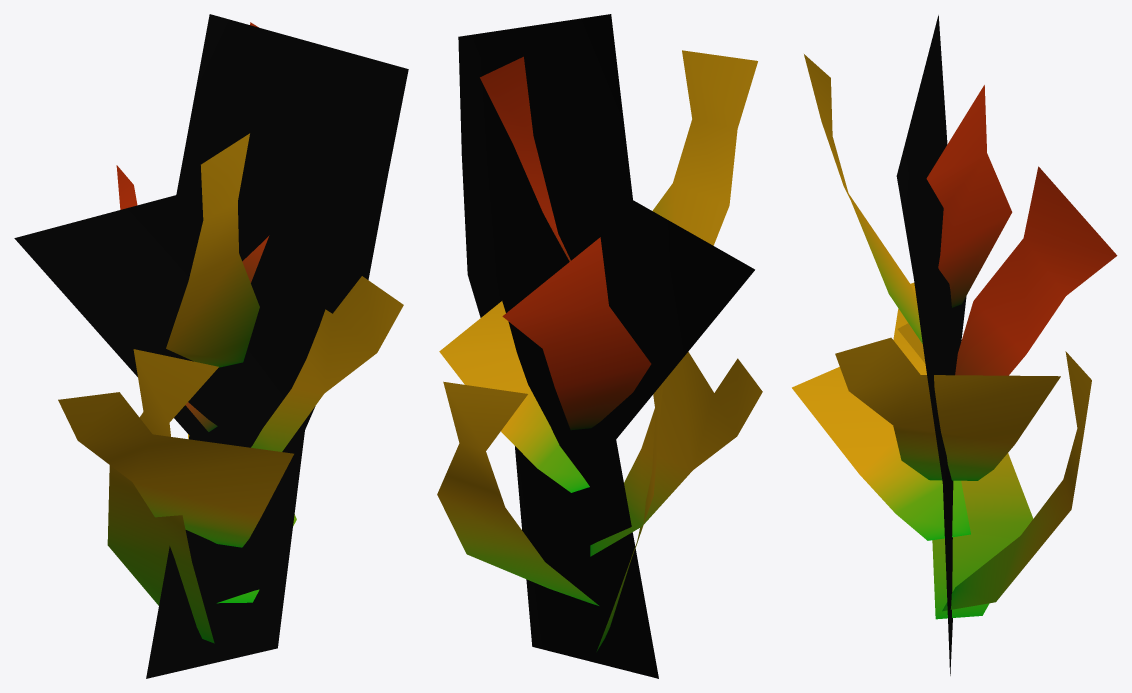
Rendered from Var4Hi45.fbx.
The picture shows the model from 3 angles, left to right: view 1: azimuth 30°, elevation 25°; view 2: azimuth 150°, elevation 25°; view 3: azimuth 270°, elevation 25°; orthographic projection. The views are drawn at different scales.
Parts seen in each view (by area): view 1: bend1; view 2: bend1; view 3: bend1.
Part boxes in pixels (x1=…): bend1: x1=14, y1=14, x2=408, y2=678; bend1: x1=437, y1=14, x2=762, y2=678; bend1: x1=792, y1=15, x2=1117, y2=675.
Size of the model in its own units: 1.29 by 2.33 by 1.09.
